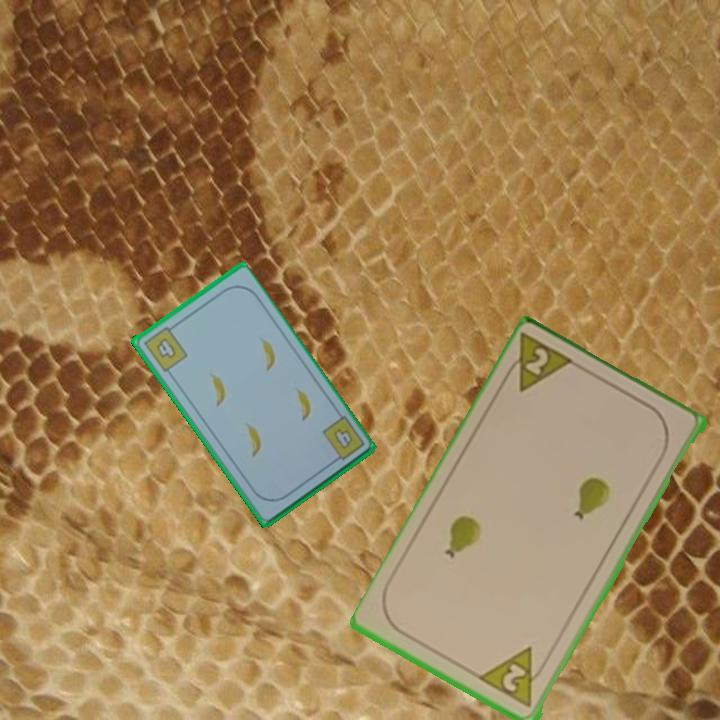2p: (498, 330, 580, 396), (477, 644, 550, 712)
4b: (139, 321, 190, 375), (318, 412, 367, 467)
